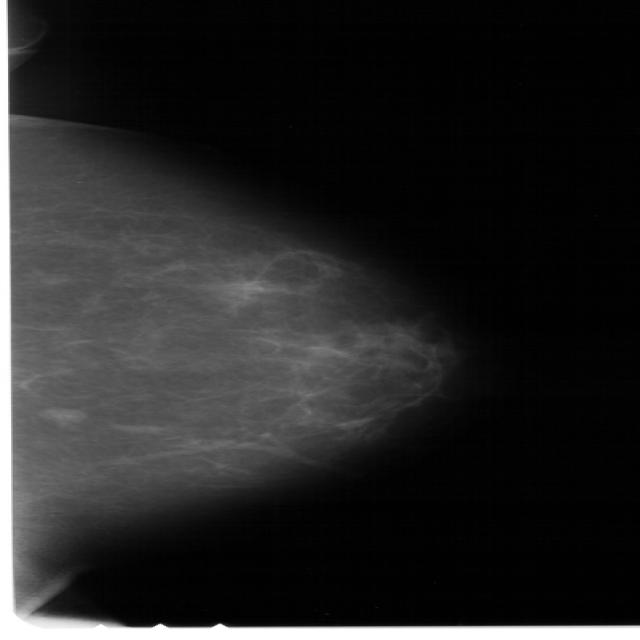tumour: (34, 406, 84, 424)
